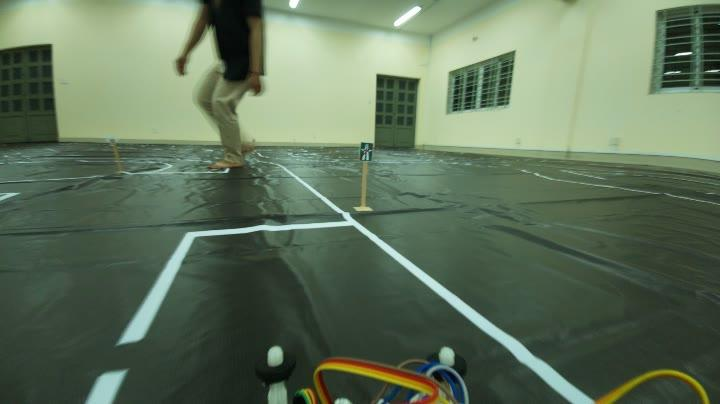highway_exit: (354, 137, 378, 165)
